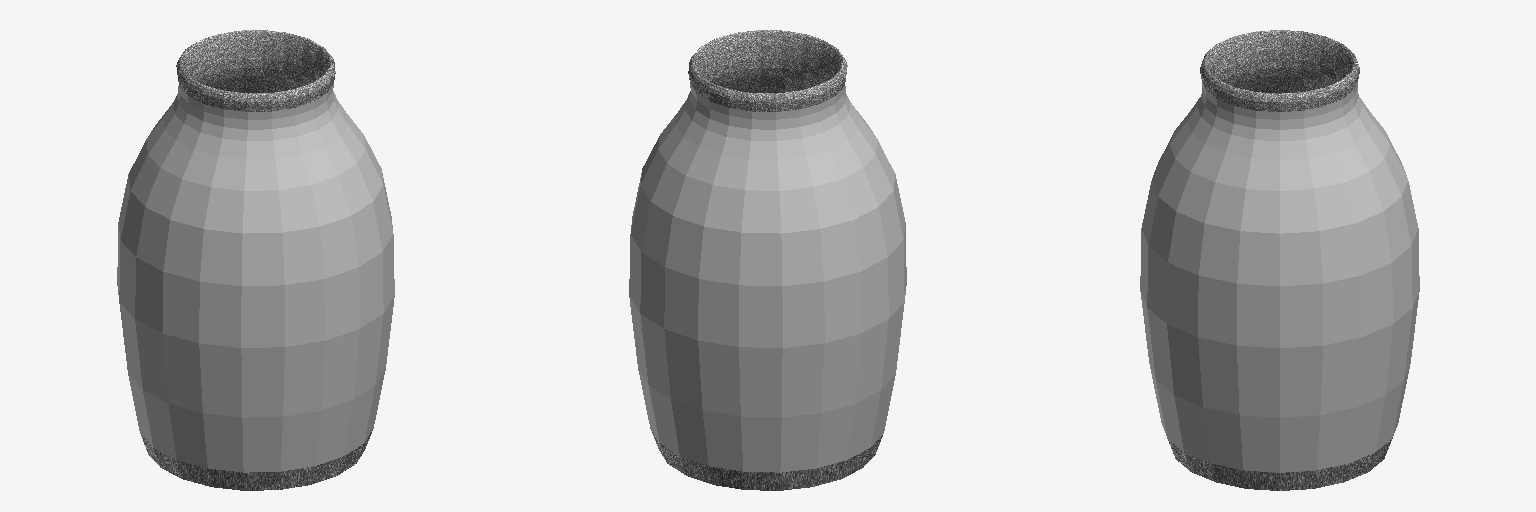
The picture shows the model from 3 angles: view 1: azimuth 30°, elevation 25°; view 2: azimuth 150°, elevation 25°; view 3: azimuth 270°, elevation 25°; orthographic projection.
Parts seen in each view (by area): view 1: Cylinder.001; view 2: Cylinder.001; view 3: Cylinder.001.
Part boxes in pixels (x1,y1,x2,y2): Cylinder.001: (117,30,394,490); Cylinder.001: (629,30,906,490); Cylinder.001: (1140,30,1419,490).
Bounding box in the file's own units: 1.08 × 1.66 × 1.08.
2 materials, 1 textured.